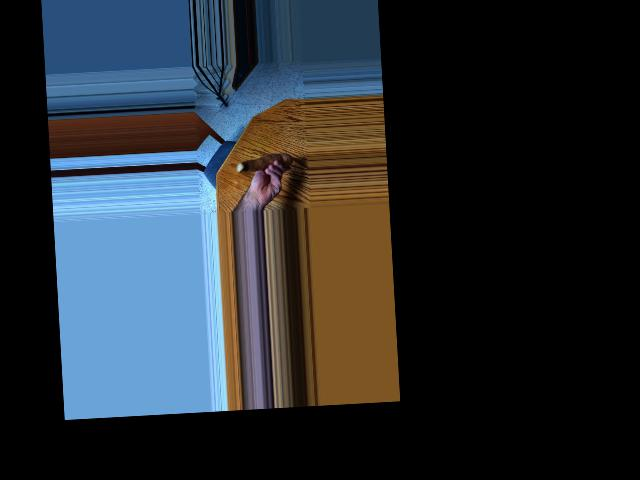sweet_potato: (237, 150, 294, 178)
